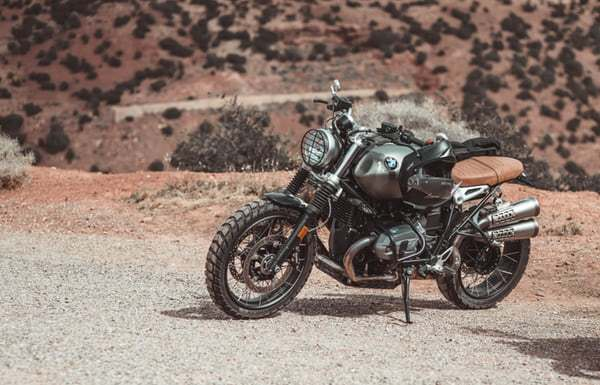13_label: (202, 74, 554, 331)
